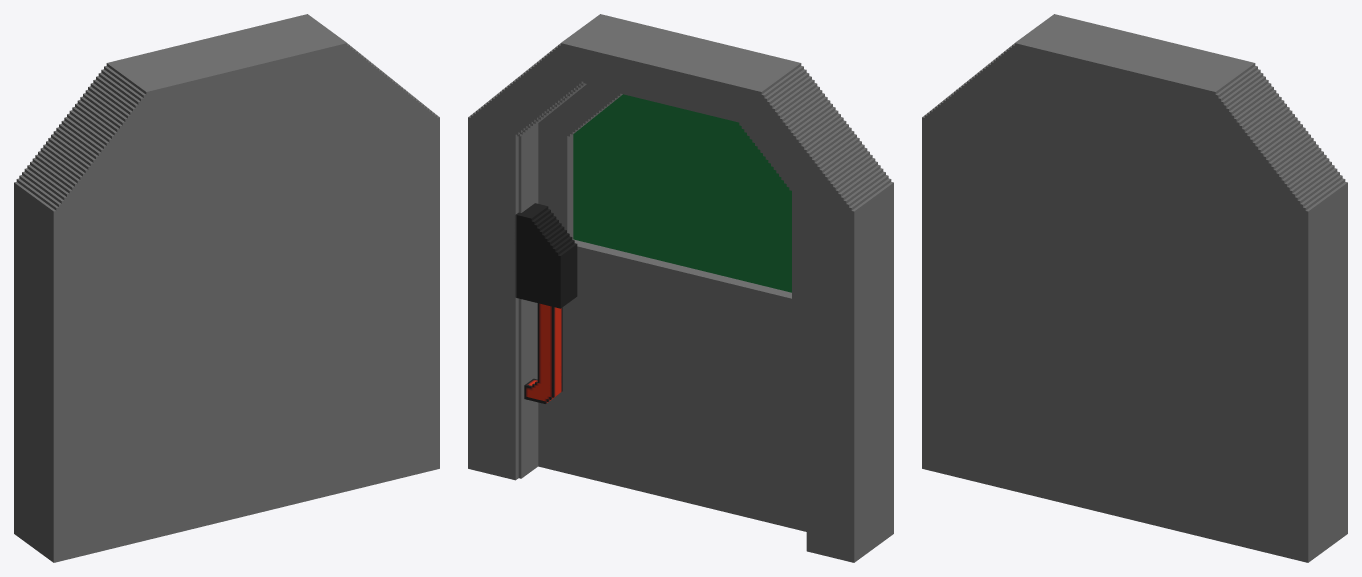
The model's file is Lab-8-Door.fbx.
3 renders of one model, left to right at view 1: azimuth 30°, elevation 25°; view 2: azimuth 150°, elevation 25°; view 3: azimuth 330°, elevation 25°, orthographic.
Parts seen in each view (by area): view 1: Door; view 2: Door; view 3: Door.
Part boxes in pixels (box(x1,y1,x2,y2)): Door: box(14, 14, 439, 562); Door: box(468, 14, 893, 562); Door: box(922, 14, 1347, 562).
Size of the model in its own units: 146 by 162 by 26.
